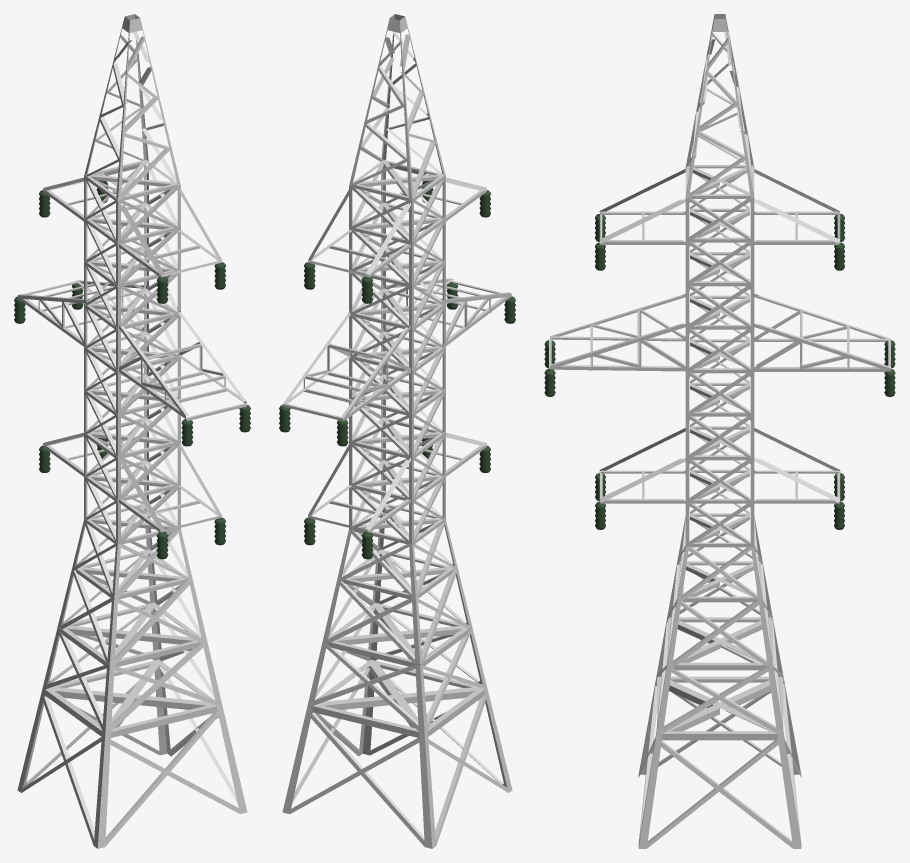
The model's file is Power Transmission Line.fbx.
The picture shows the model from 3 angles, left to right: view 1: azimuth 30°, elevation 25°; view 2: azimuth 150°, elevation 25°; view 3: azimuth 270°, elevation 25°; orthographic projection.
Parts seen in each view (by area): view 1: Transmission_Line; view 2: Transmission_Line; view 3: Transmission_Line.
Part boxes in pixels (<box>): Transmission_Line: <box>14,14,250,848</box>; Transmission_Line: <box>279,14,515,848</box>; Transmission_Line: <box>544,14,895,848</box>.
Bounding box in the file's own units: 400 × 2000 × 800.
